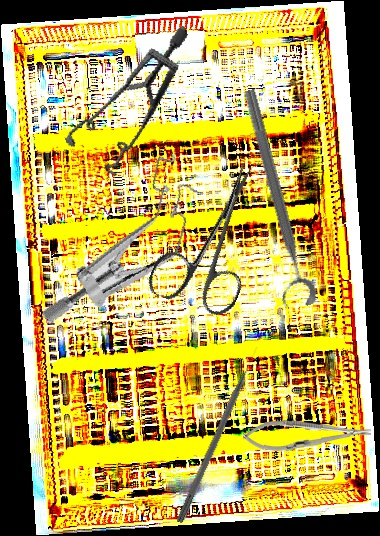Fixation Ring: (225, 87, 320, 312)
Iris Scissors: (144, 146, 287, 325)
Needle Holder: (242, 416, 372, 454)
Pusher: (175, 345, 263, 525)
Speculum: (40, 130, 209, 352), (42, 25, 225, 188)
